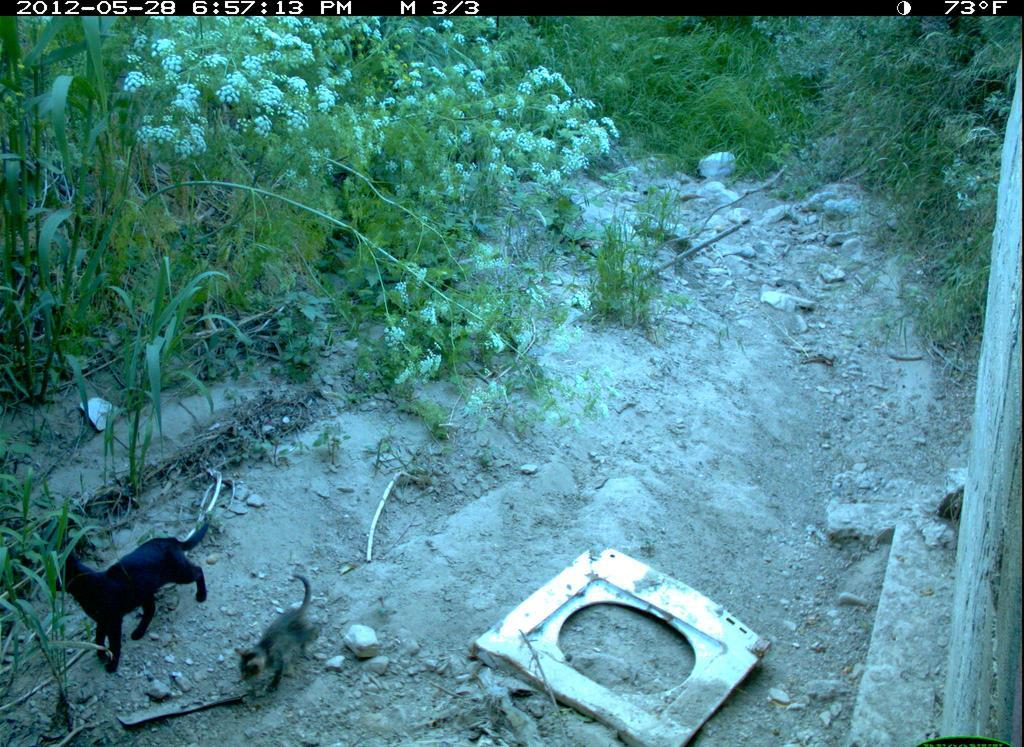cat: (36, 515, 223, 683), (232, 552, 337, 713)
